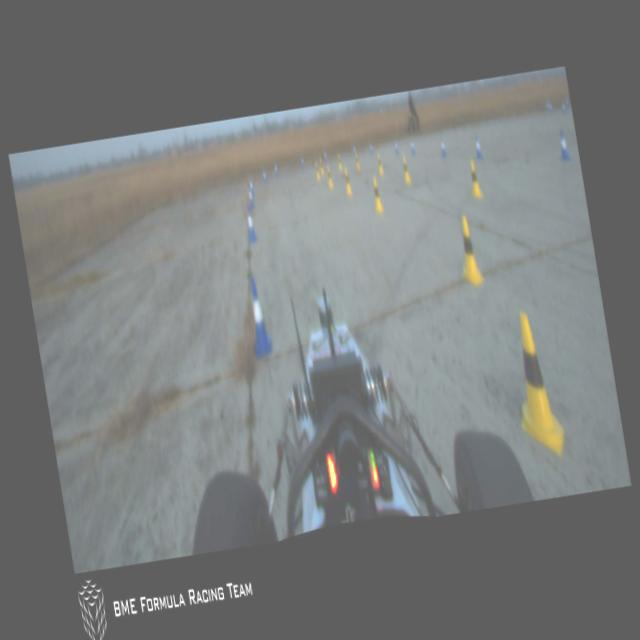blue_cone: (244, 276, 274, 358), (244, 205, 258, 242), (557, 128, 570, 160), (474, 135, 484, 160), (247, 187, 254, 210), (440, 139, 448, 158), (248, 177, 255, 196), (409, 138, 416, 154), (352, 142, 358, 160), (274, 163, 280, 179), (368, 140, 374, 156), (262, 170, 268, 184), (394, 140, 399, 156), (300, 156, 305, 168), (324, 149, 328, 162)
yellow_cone: (505, 313, 568, 459), (454, 213, 486, 288), (467, 157, 483, 199), (371, 176, 384, 214), (398, 152, 411, 180), (342, 168, 352, 196), (326, 166, 334, 190), (376, 152, 384, 176), (314, 160, 322, 182), (354, 152, 362, 172), (318, 157, 325, 176), (336, 154, 343, 170)
